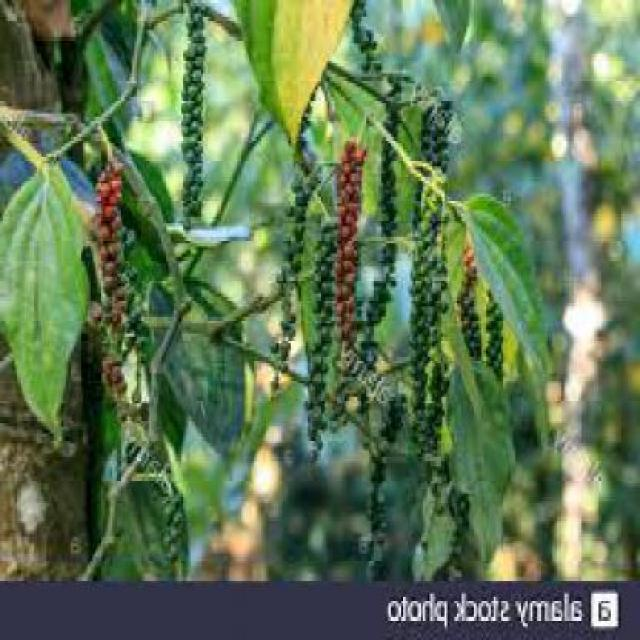RIPE: (330, 137, 368, 360)
UNRIPE: (416, 90, 462, 424), (370, 73, 416, 301), (176, 7, 218, 227), (161, 477, 198, 554), (482, 303, 511, 374)
